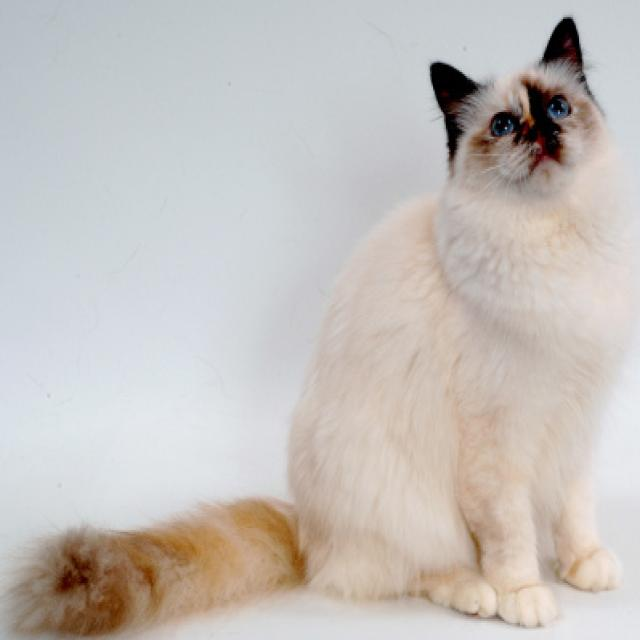Birman: (6, 11, 640, 640)
